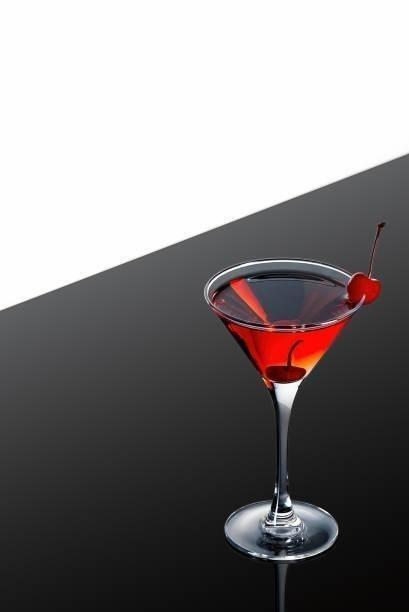glass-wine: (203, 257, 370, 562)
